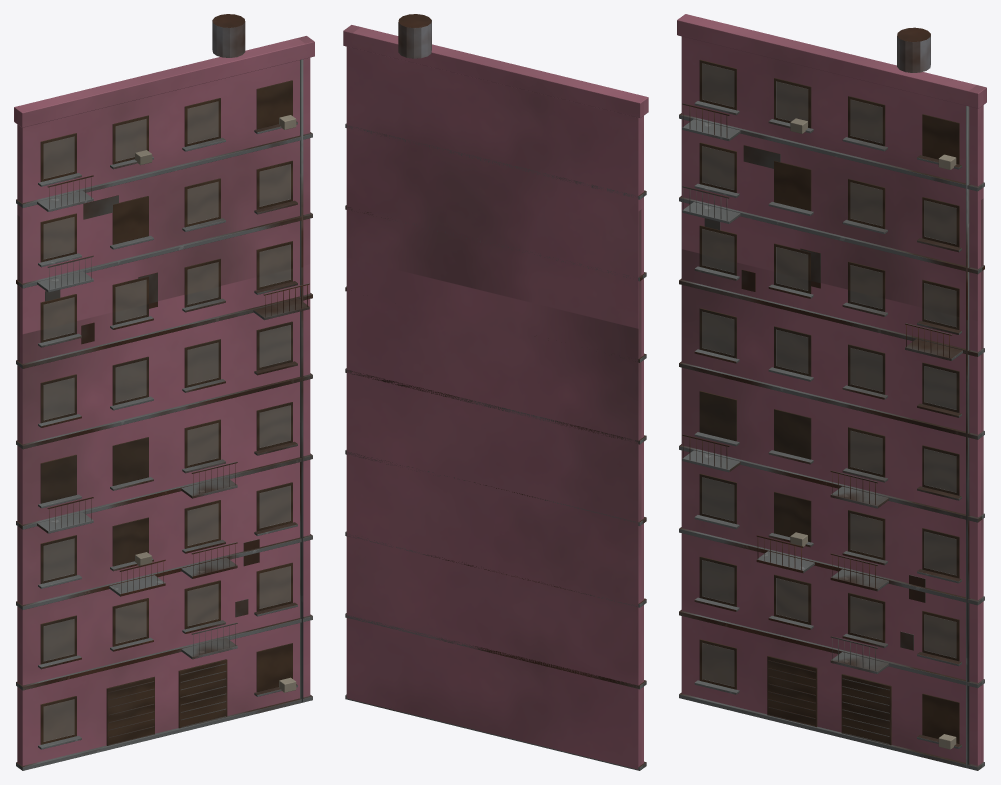
Rendered from R16_apartment_block_facade_v2.glb.
3 views of the same model, side by side, from view 1: azimuth 30°, elevation 25°; view 2: azimuth 150°, elevation 25°; view 3: azimuth 330°, elevation 25° (orthographic). The views are drawn at different scales.
Visible parts, largest first — view 1: R16_apartment_block_facade_v2; view 2: R16_apartment_block_facade_v2; view 3: R16_apartment_block_facade_v2.
Boxes of the visible parts, x1,y1,x2,y2 form: R16_apartment_block_facade_v2: (14, 14, 314, 770); R16_apartment_block_facade_v2: (343, 14, 648, 770); R16_apartment_block_facade_v2: (677, 14, 986, 770).
Size of the model in its own units: 13.35 by 30 by 2.41.
Materials: 10 (9 with a texture image).
